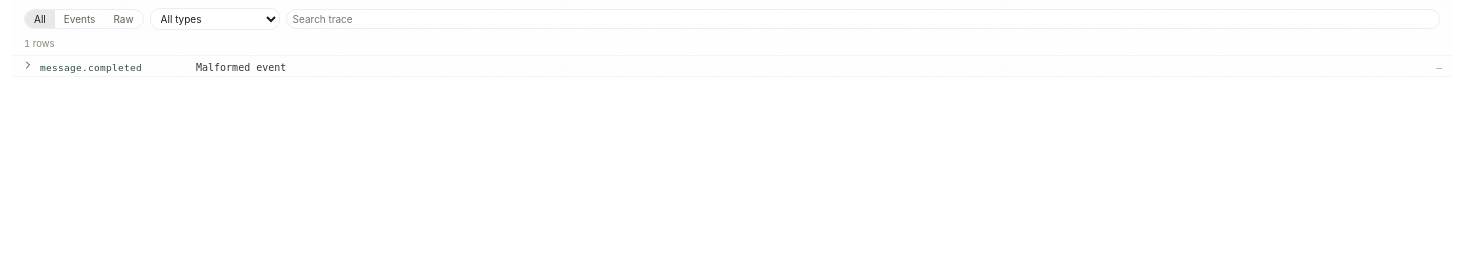
Test: DebugTraceTab › keeps a malformed payload readable in the raw event
Step 1. Click the button "message.completed Malformed event —" → (91, 68), box [12,56,1452,76]
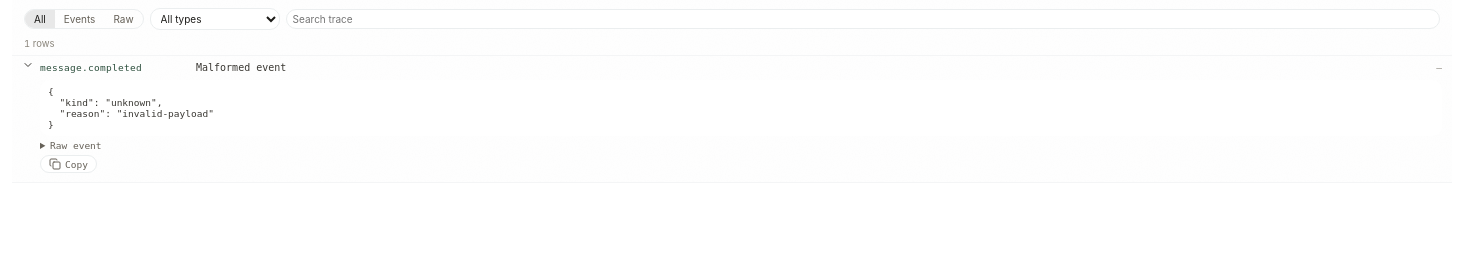
Result: the text "{ \"kind\": \"unknown\", \"reason\": \"invalid-payload\" }" is shown at [40,80,1442,136]
Step 2. Click the heading "Raw event" → (76, 146), box [50,140,102,151]
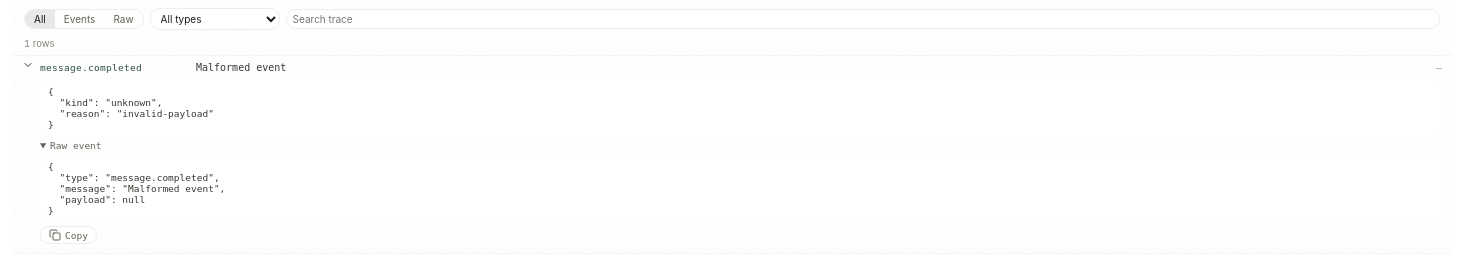
Result: the text "\"payload\": null" is shown at [48,161,225,216]
